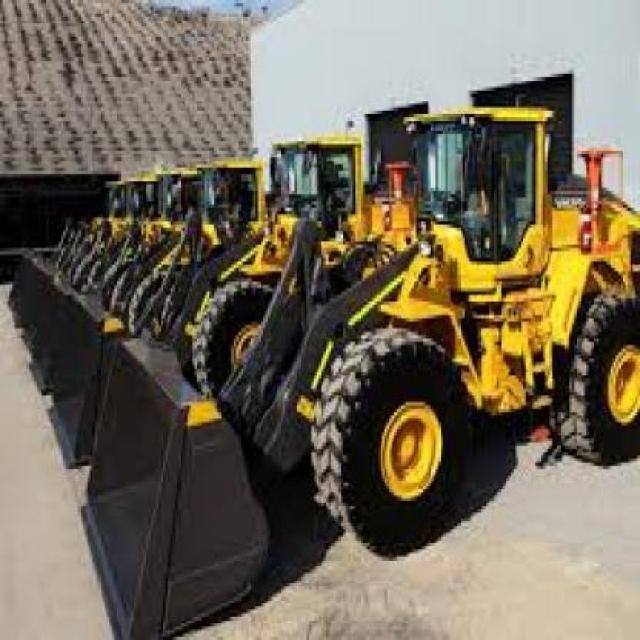buldozerpayloadergrader: (15, 106, 640, 606)
